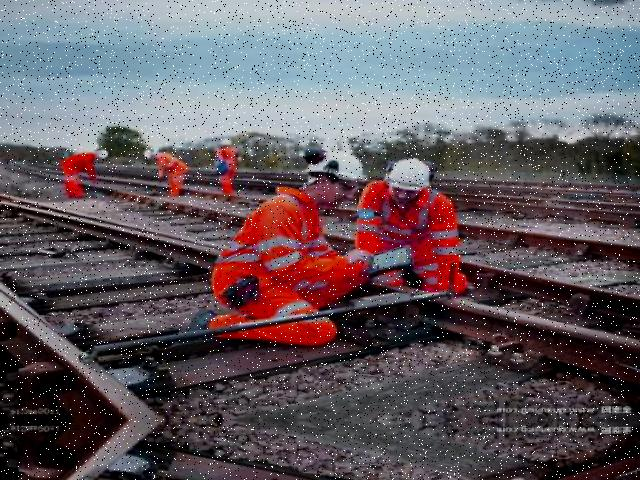Helmet: (289, 144, 373, 185), (383, 152, 439, 195)
